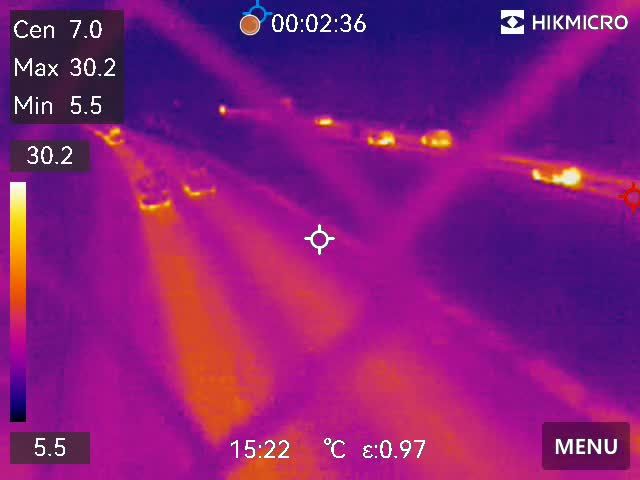vehicle: (130, 173, 178, 215), (179, 164, 222, 199), (528, 158, 576, 188), (420, 125, 455, 151), (360, 129, 397, 147)
